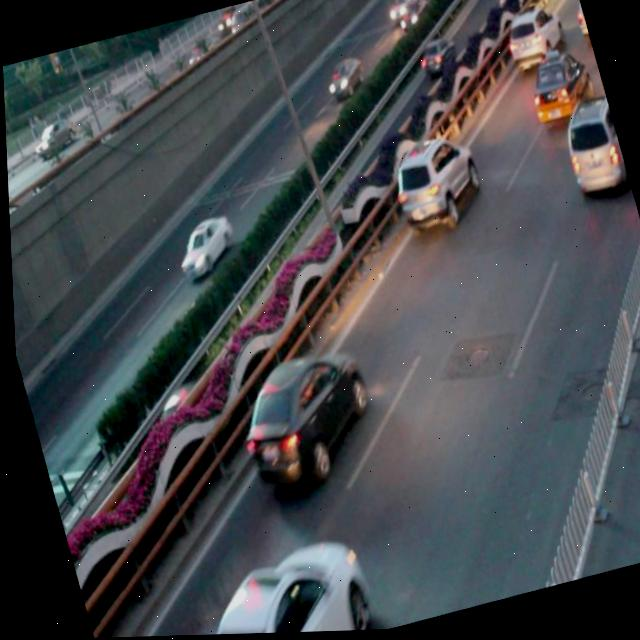car: (226, 343, 380, 496), (173, 539, 371, 636), (382, 127, 487, 239), (551, 97, 628, 200), (520, 51, 601, 131), (166, 212, 241, 284), (498, 4, 562, 70), (412, 33, 462, 81), (318, 55, 367, 102)
